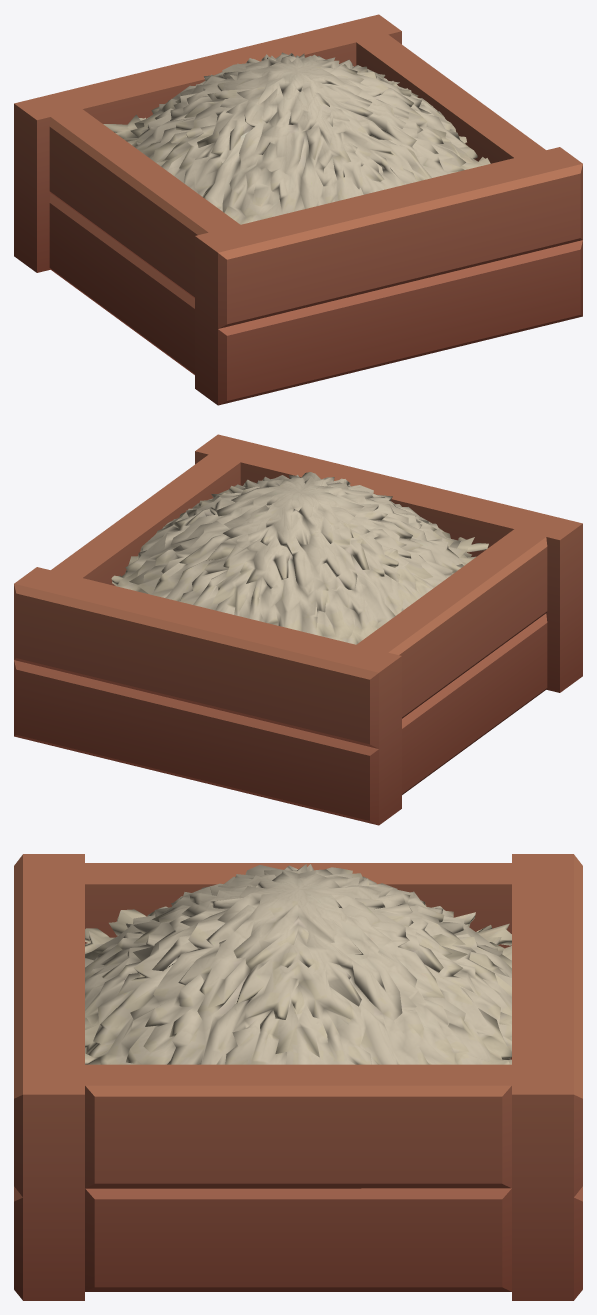
File: rice_raw_counter.glb
The picture shows the model from 3 angles, top to bottom: view 1: azimuth 30°, elevation 25°; view 2: azimuth 150°, elevation 25°; view 3: azimuth 270°, elevation 25°; orthographic projection. The views are drawn at different scales.
Parts seen in each view (by area): view 1: crate, tripo_node_e4bd4da5; view 2: crate, tripo_node_e4bd4da5; view 3: crate, tripo_node_e4bd4da5.
Boxes of the visible parts, x1,y1,x2,y2 form: crate: (14,14,582,405); tripo_node_e4bd4da5: (103,52,490,224); crate: (14,434,582,825); tripo_node_e4bd4da5: (111,472,488,644); crate: (14,854,582,1300); tripo_node_e4bd4da5: (85,864,511,1064).
Size of the model in its own units: 2 by 1.14 by 2.
2 materials, 2 textured.
